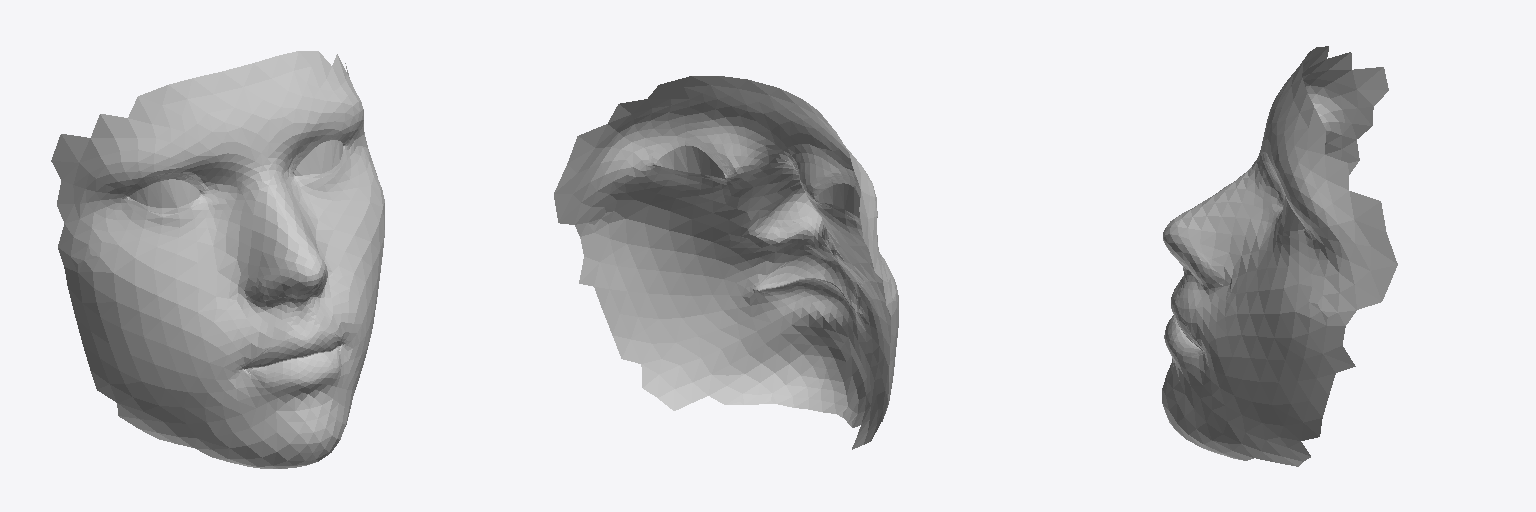
File: __skarllet_noEyeLips_singleEyeLip_lower_filled_partFace.obj
The picture shows the model from 3 angles: view 1: azimuth 30°, elevation 25°; view 2: azimuth 150°, elevation 25°; view 3: azimuth 270°, elevation 25°; orthographic projection.
Size of the model in its own units: 149 by 164 by 96.31.